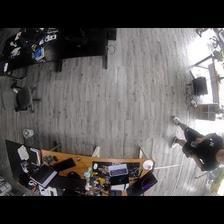normal: (170, 115, 224, 169)
